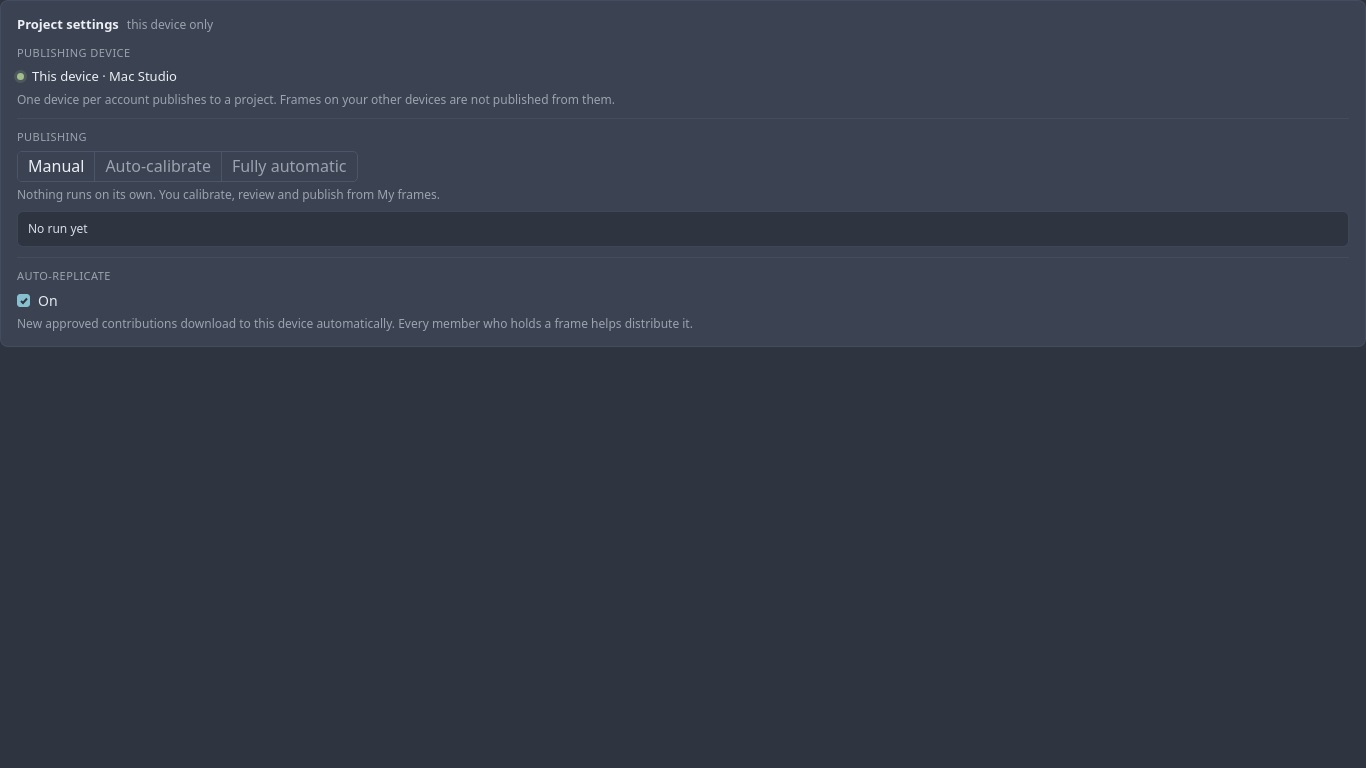
Test: ProjectSettingsCard › a failed auto-replicate write logs, notifies and keeps the stored value
Click the switch named "Auto-replicate".
click(24, 298)  # box [16,290,32,306]
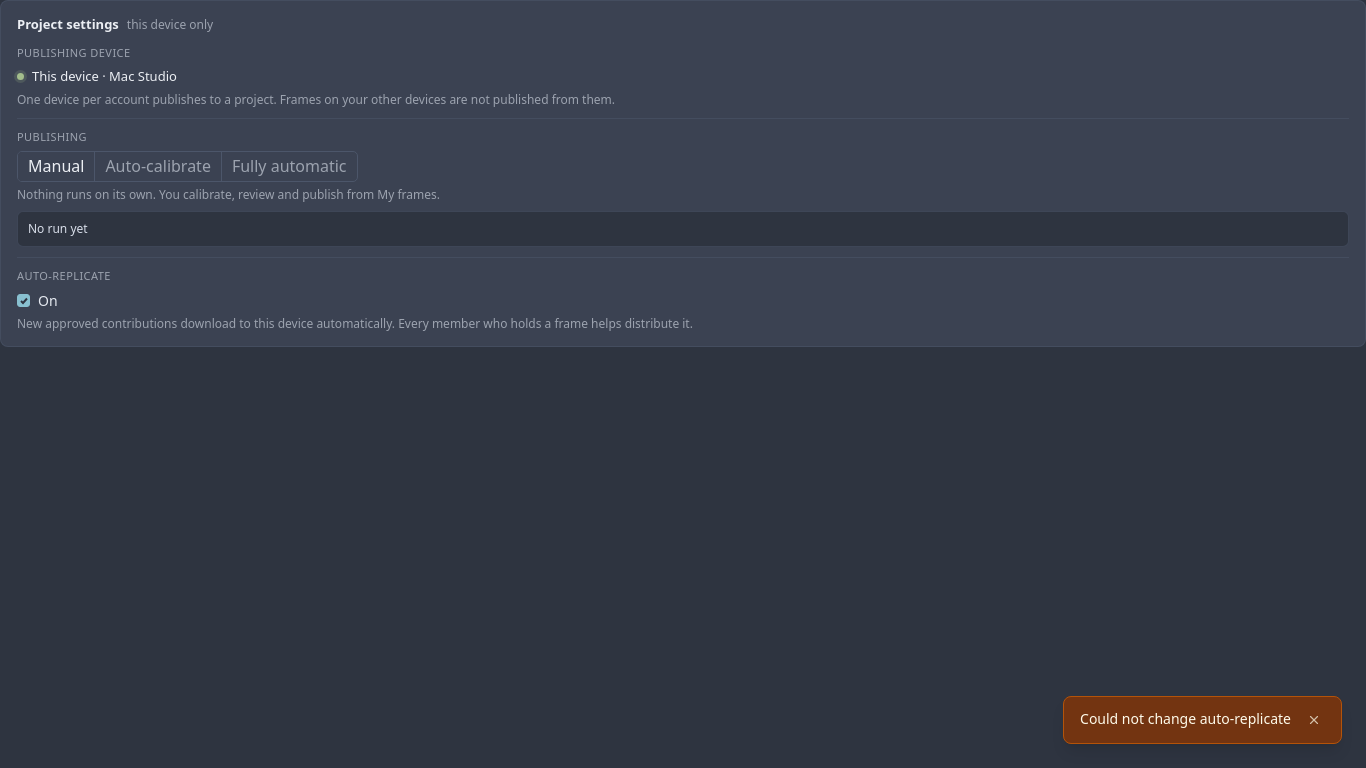
Check: the message reads "Could not change auto-replicate", box [1080,709,1291,728]
